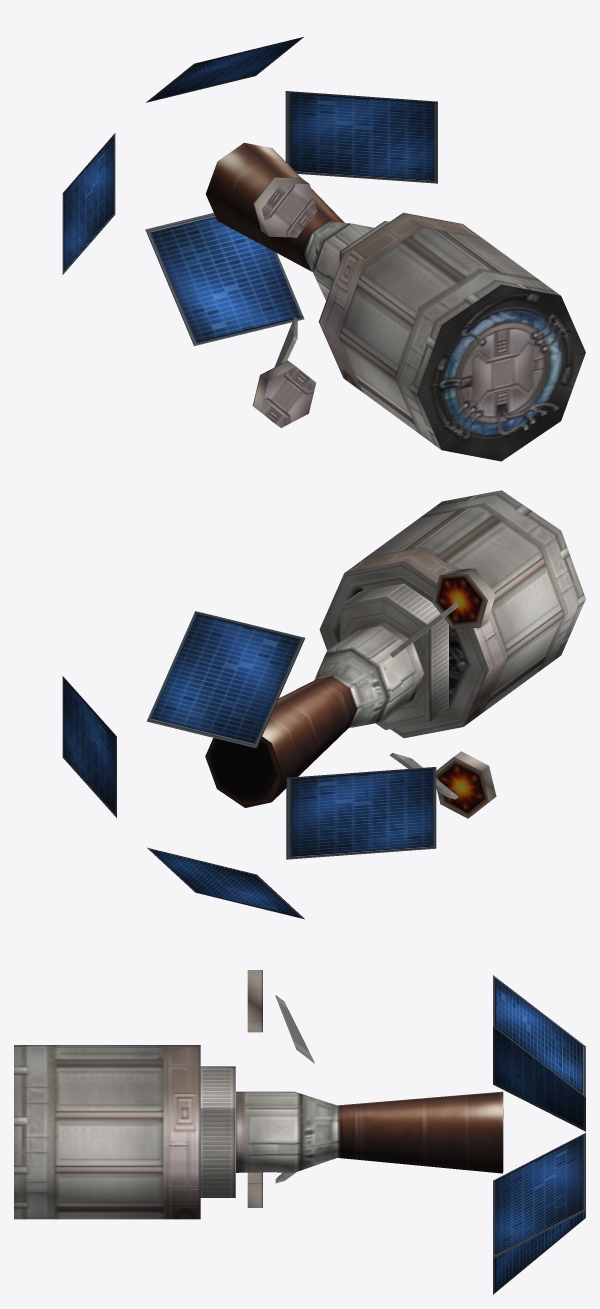
The model's file is utl04_static.obj.
3 views of the same model, one above another, from view 1: azimuth 30°, elevation 25°; view 2: azimuth 150°, elevation 25°; view 3: azimuth 270°, elevation 25° (orthographic). The views are drawn at different scales.
Parts seen in each view (by area): view 1: frm-fuselg, frm-slrpan, frm-tengine, frm-bengine; view 2: frm-fuselg, frm-slrpan, frm-tengine, frm-bengine; view 3: frm-fuselg, frm-slrpan, frm-tengine, frm-tfuselg, frm-bengine.
Boxes of the visible parts, x1=… form: frm-fuselg: x1=206, y1=142, x2=585, y2=461; frm-slrpan: x1=62, y1=37, x2=437, y2=345; frm-tengine: x1=253, y1=177, x2=317, y2=237; frm-bengine: x1=252, y1=360, x2=316, y2=427; frm-fuselg: x1=205, y1=490, x2=585, y2=807; frm-slrpan: x1=62, y1=611, x2=436, y2=919; frm-tengine: x1=432, y1=568, x2=495, y2=628; frm-bengine: x1=436, y1=751, x2=496, y2=818; frm-fuselg: x1=14, y1=1045, x2=503, y2=1219; frm-slrpan: x1=493, y1=975, x2=585, y2=1294; frm-tengine: x1=247, y1=970, x2=262, y2=1032; frm-tfuselg: x1=275, y1=995, x2=314, y2=1063; frm-bengine: x1=247, y1=1172, x2=262, y2=1207.
Size of what is drawn, in the model's own units: 6.71 by 4.83 by 9.32.
7 materials, 6 textured.
